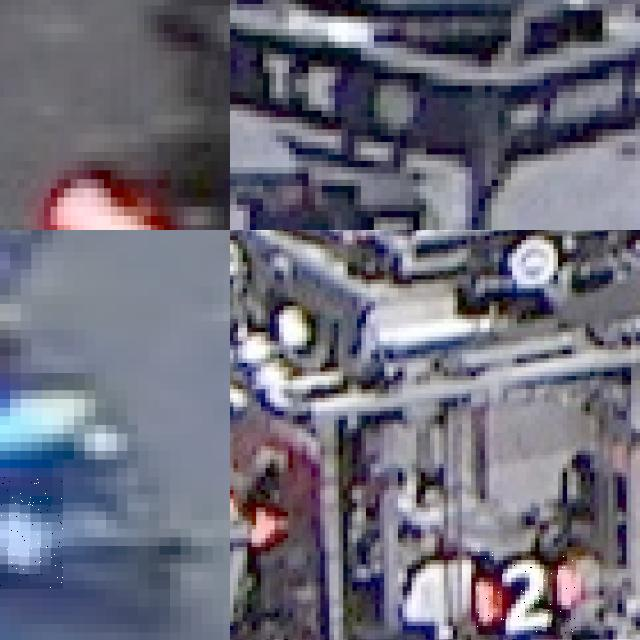B5: (0, 476, 63, 589)
R2: (476, 551, 576, 635)
